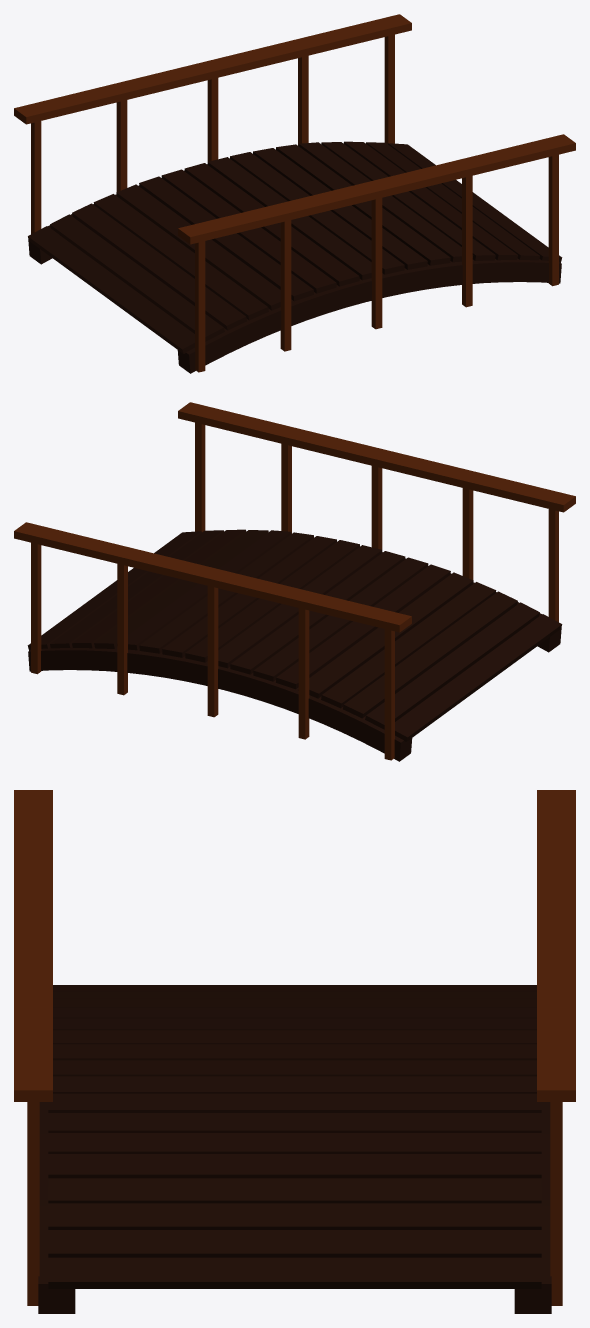
Rendered from Bridge001.FBX.
3 views of the same model, one above another, from view 1: azimuth 30°, elevation 25°; view 2: azimuth 150°, elevation 25°; view 3: azimuth 270°, elevation 25° (orthographic). The views are drawn at different scales.
Parts seen in each view (by area): view 1: Box001; view 2: Box001; view 3: Box001.
Boxes of the visible parts, x1,y1,x2,y2 form: Box001: [14, 14, 575, 373]; Box001: [14, 402, 575, 761]; Box001: [14, 790, 575, 1313].
Bounding box in the file's own units: 57.61 × 20.57 × 45.57.
